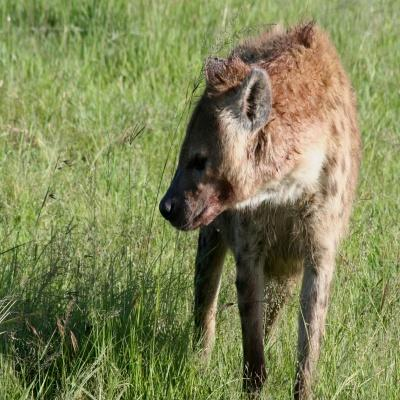hyenas: (148, 21, 400, 396)
